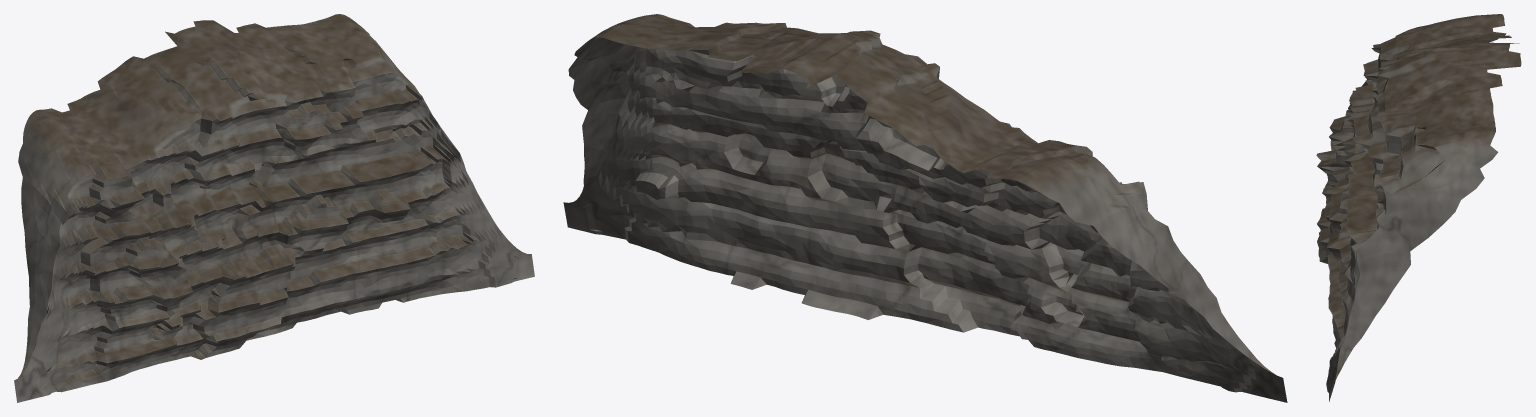
File: SM_rock_face_02.fbx
The picture shows the model from 3 angles, left to right: view 1: azimuth 30°, elevation 25°; view 2: azimuth 150°, elevation 25°; view 3: azimuth 270°, elevation 25°; orthographic projection. The views are drawn at different scales.
Visible parts, largest first — view 1: SM_rock_face_02; view 2: SM_rock_face_02; view 3: SM_rock_face_02.
Boxes of the visible parts, <box> form: SM_rock_face_02: <box>14,14,534,402</box>; SM_rock_face_02: <box>563,14,1287,402</box>; SM_rock_face_02: <box>1316,14,1521,401</box>.
Bounding box in the file's own units: 8 × 3.58 × 2.83.
